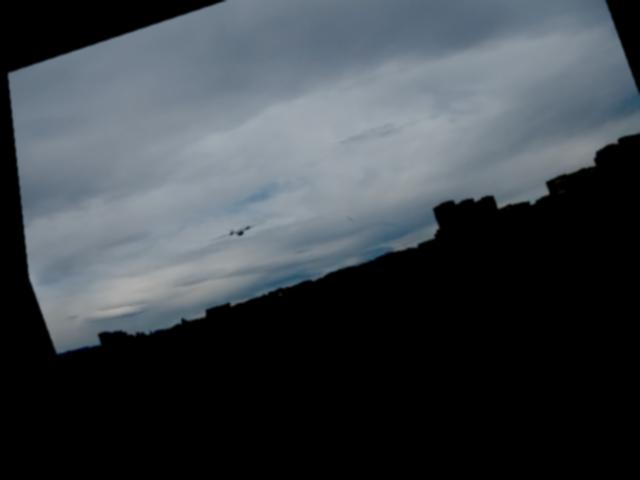plane: (199, 218, 267, 250)
